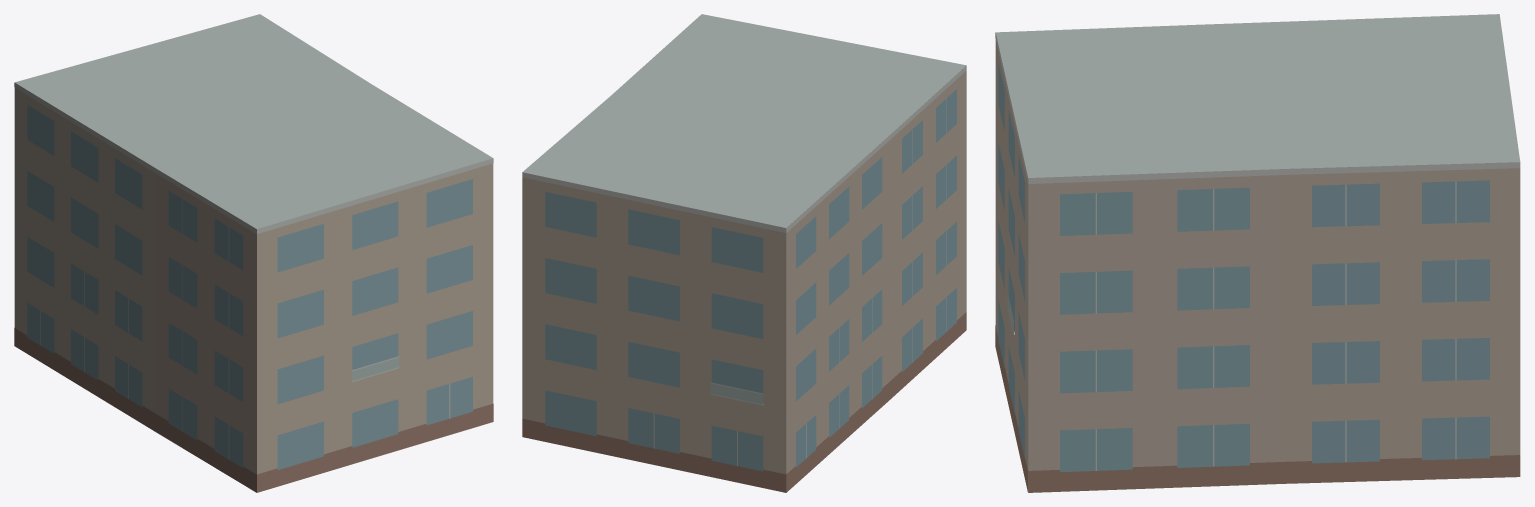
The model's file is survey-upis-32750125.glb.
The picture shows the model from 3 angles, left to right: view 1: azimuth 30°, elevation 25°; view 2: azimuth 150°, elevation 25°; view 3: azimuth 270°, elevation 25°; orthographic projection. The views are drawn at different scales.
Parts seen in each view (by area): view 1: survey-upis-32750125.tmp; view 2: survey-upis-32750125.tmp; view 3: survey-upis-32750125.tmp.
Part boxes in pixels (<box>): survey-upis-32750125.tmp: <box>14,14,493,492</box>; survey-upis-32750125.tmp: <box>522,14,966,492</box>; survey-upis-32750125.tmp: <box>995,14,1520,492</box>.
Size of the model in its own units: 14.31 by 12.8 by 19.35.
